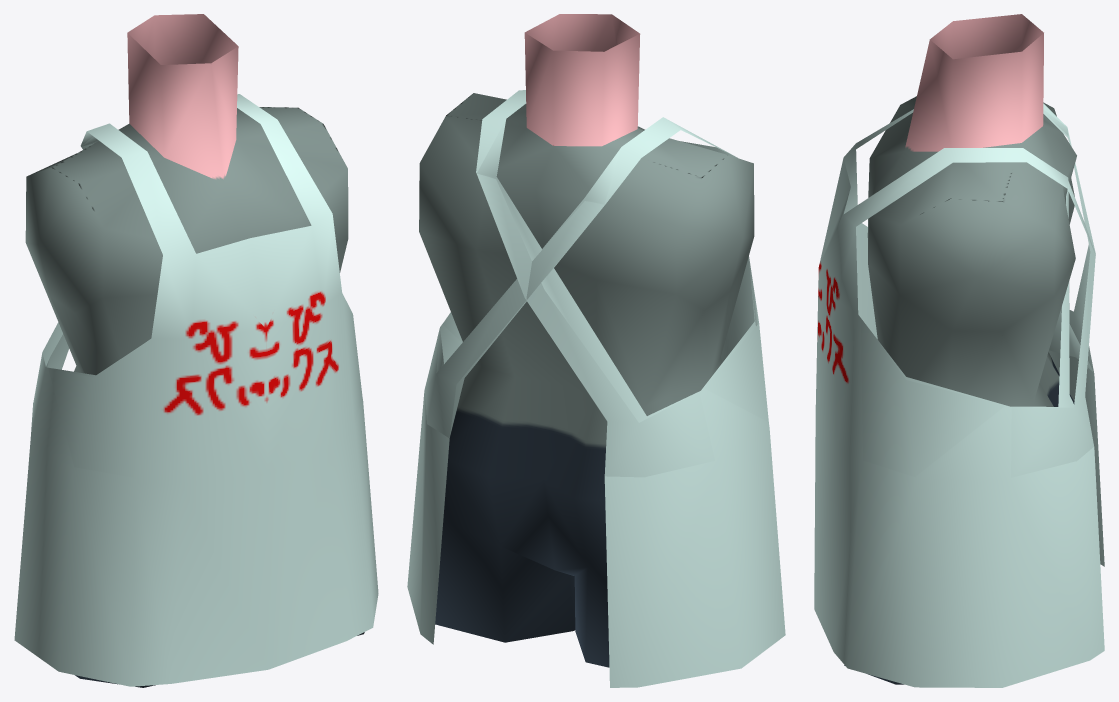
File: body.obj
The picture shows the model from 3 angles, left to right: view 1: azimuth 30°, elevation 25°; view 2: azimuth 150°, elevation 25°; view 3: azimuth 270°, elevation 25°; orthographic projection. The views are drawn at different scales.
Visible parts, largest first — view 1: body; view 2: body; view 3: body.
Boxes of the visible parts, x1,y1,x2,y2 form: body: (14,14,378,687); body: (407,14,785,687); body: (814,14,1104,687).
Bounding box in the file's own units: 0.5227 × 0.8917 × 0.4052.
1 material, 1 textured.
